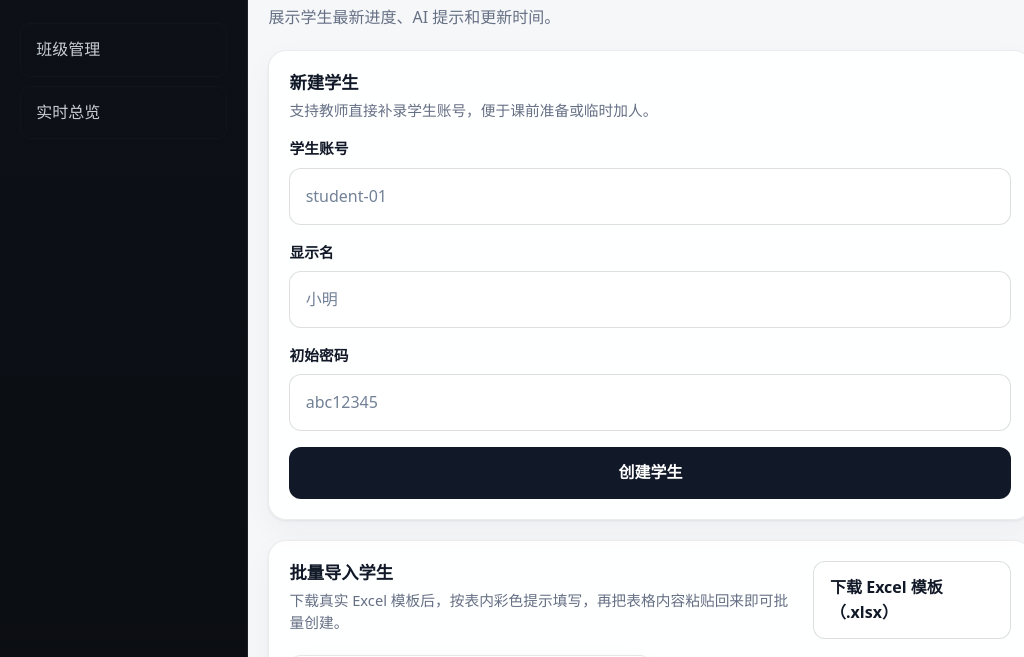
it: StudentsView › creates a student account and resets student password
In the field named "student-username": (650, 196) [290,168,1012,224], type "student-02"
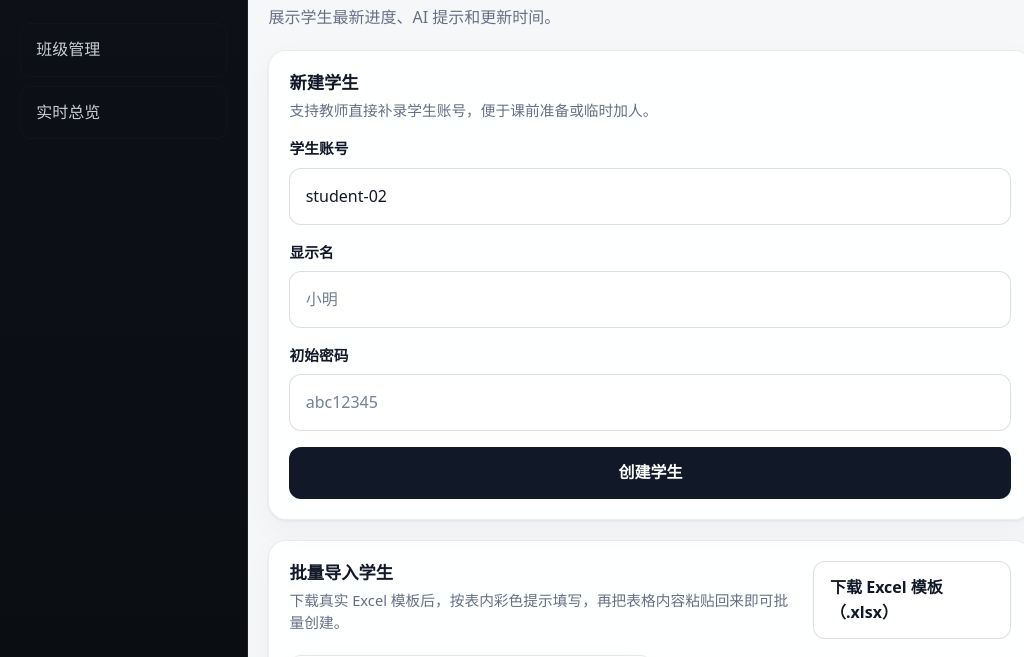
In the field named "student-display-name": (650, 299) [290,271,1012,328], type "Mia"
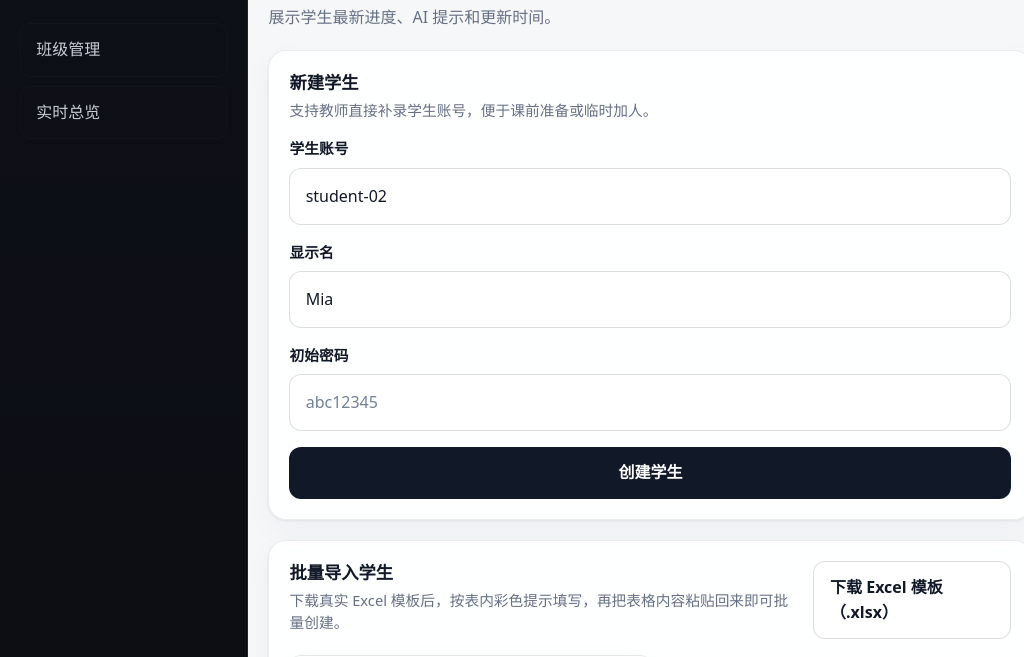
In the password field named "student-password": (650, 402) [290,374,1012,431], type "abc12345"
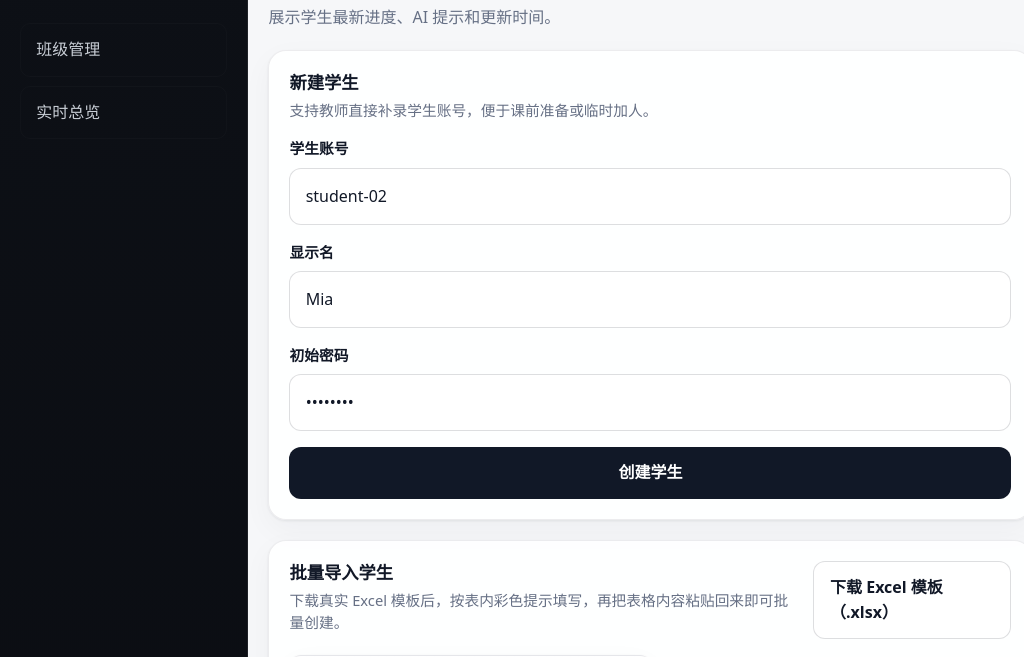
Submit the form with test id "create-student-form", box [290,137,1012,499]
(page scrolled)
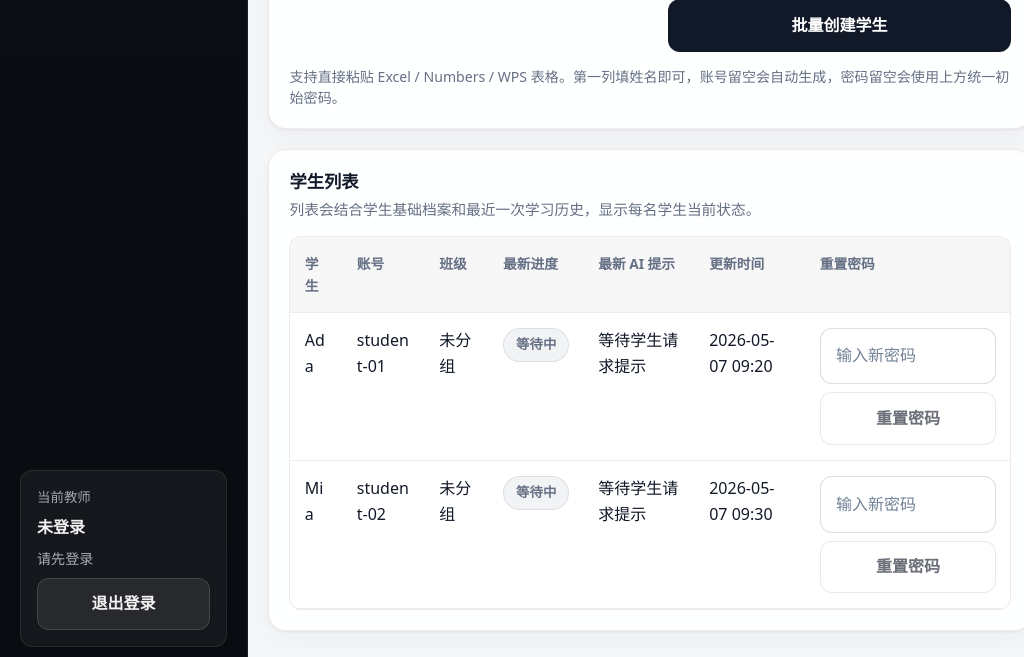
Now the text "student-02" is shown, box [342,460,425,609]
In the password field named "reset-student-password-stu-1": (908, 356) [820,328,996,384], type "updated123"
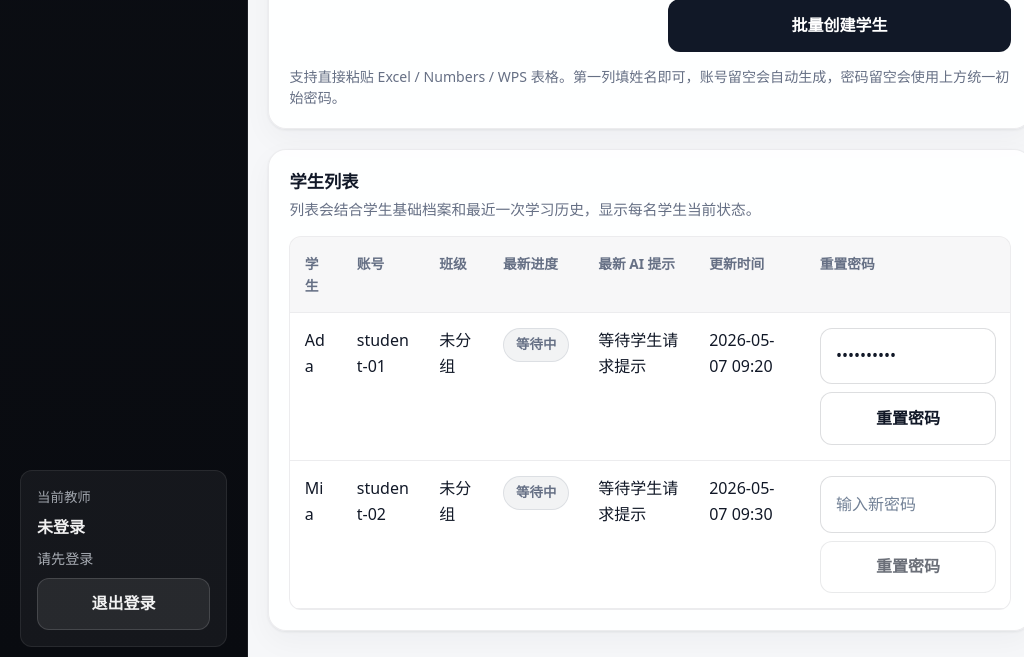
Click the button with test id "student-reset-stu-1": (908, 419) [820,392,996,445]
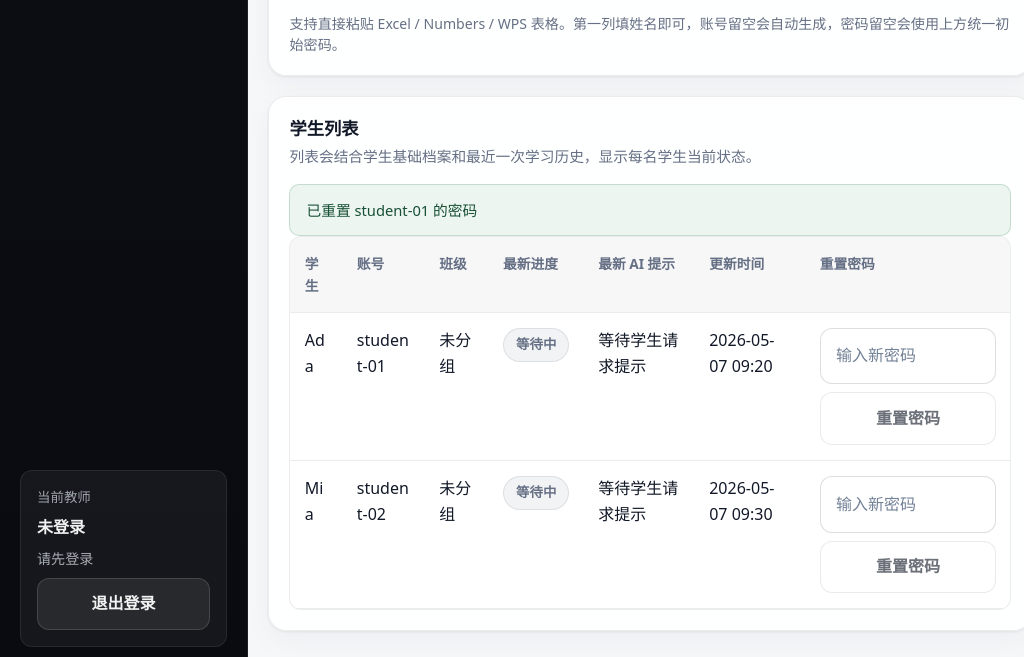
Now the text "已重置 student-01 的密码" is shown, box [290,184,1012,236]
